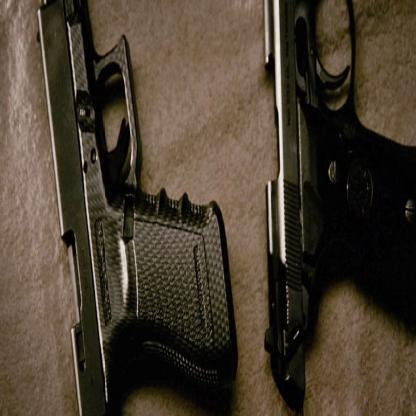gun: (28, 0, 236, 411), (253, 10, 413, 410)
